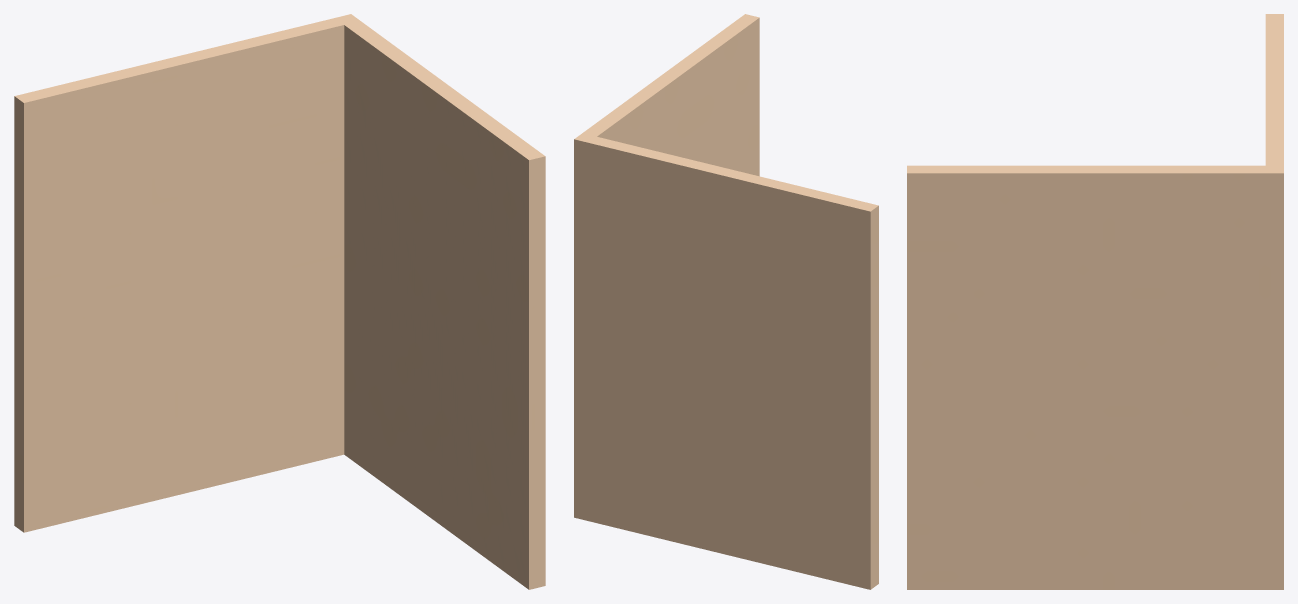
File: Wall_01_LShape.fbx
The picture shows the model from 3 angles, left to right: view 1: azimuth 30°, elevation 25°; view 2: azimuth 150°, elevation 25°; view 3: azimuth 270°, elevation 25°; orthographic projection. The views are drawn at different scales.
Parts seen in each view (by area): view 1: Wall_01_LShape; view 2: Wall_01_LShape; view 3: Wall_01_LShape.
Boxes of the visible parts, x1,y1,x2,y2 form: Wall_01_LShape: (14,14,545,589); Wall_01_LShape: (574,14,878,589); Wall_01_LShape: (907,14,1283,589).
Bounding box in the file's own units: 2.05 × 2.5 × 2.05.
